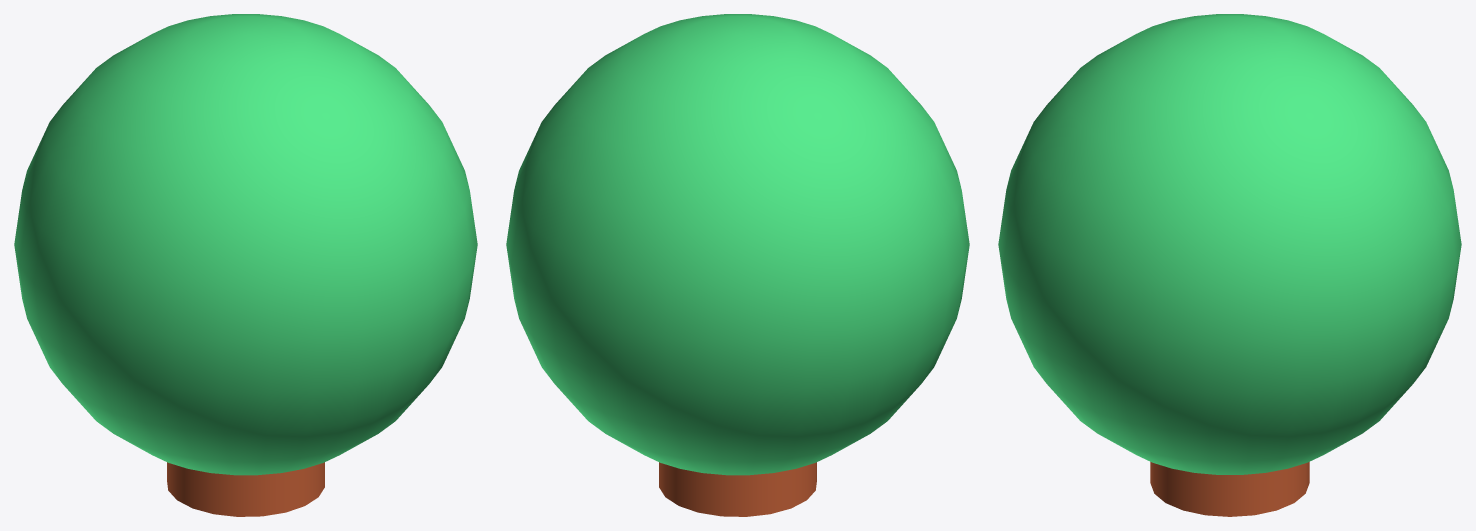
File: Tree1.fbx
3 views of the same model, side by side, from view 1: azimuth 30°, elevation 25°; view 2: azimuth 150°, elevation 25°; view 3: azimuth 270°, elevation 25° (orthographic).
Parts seen in each view (by area): view 1: Tree1, Tree1_Stump; view 2: Tree1, Tree1_Stump; view 3: Tree1, Tree1_Stump.
Part boxes in pixels (<box>): Tree1: <box>14,14,477,475</box>; Tree1_Stump: <box>167,462,324,516</box>; Tree1: <box>506,14,969,475</box>; Tree1_Stump: <box>659,462,816,516</box>; Tree1: <box>998,14,1461,474</box>; Tree1_Stump: <box>1150,462,1309,516</box>.
Bounding box in the file's own units: 222 × 238 × 223.
